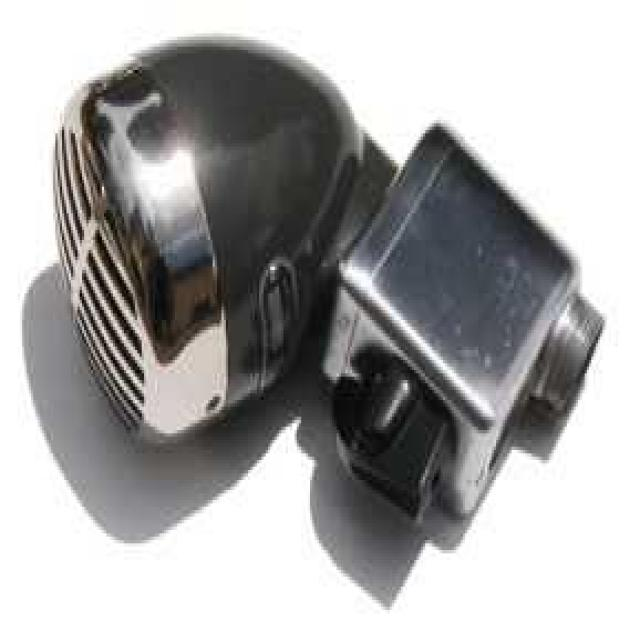microphone: (50, 31, 368, 445)
